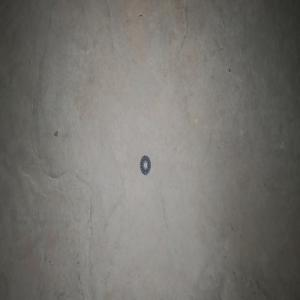Washer: (139, 154, 151, 175)
